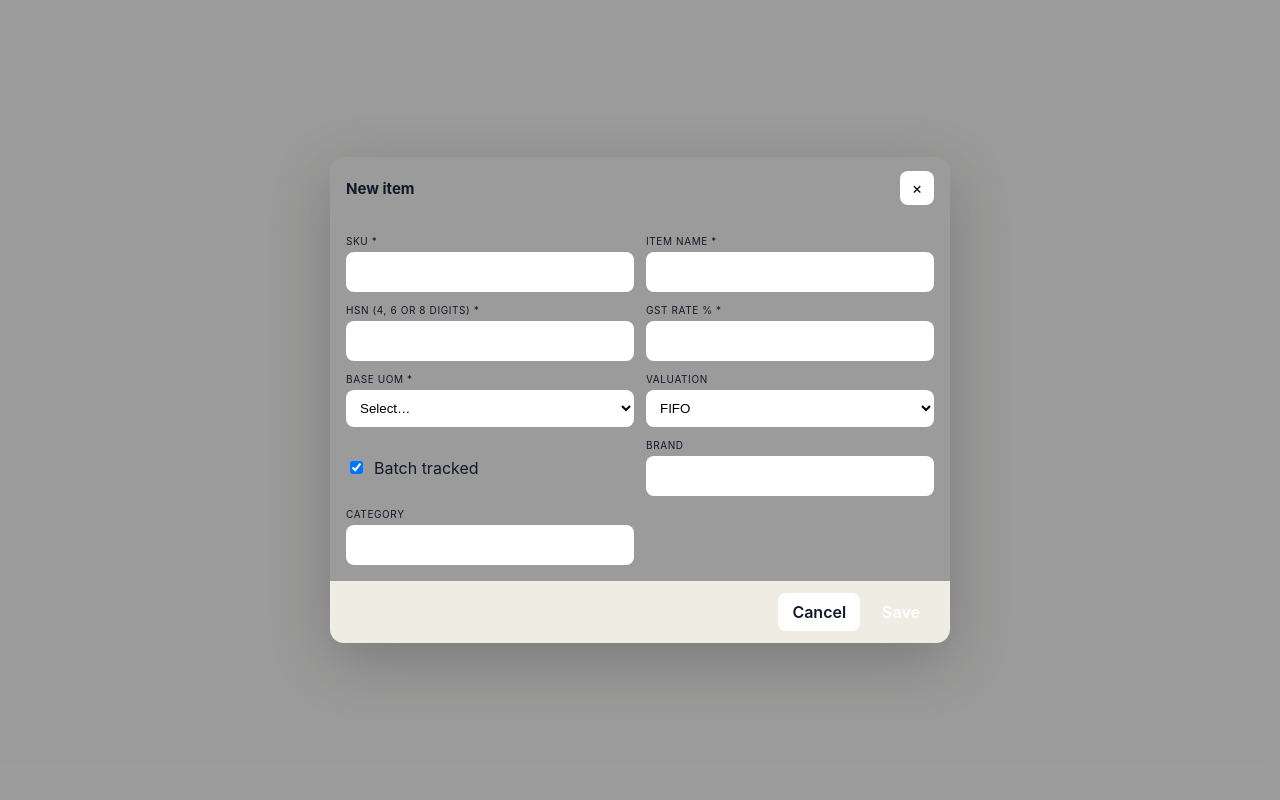
Test case: MasterFormModal › blocks submit until required fields are filled
What coordinates should you click on to do the following:
click the button "Save"
I would click on:
 (901, 612)
Its box is x1=868 y1=593 x2=934 y2=631.
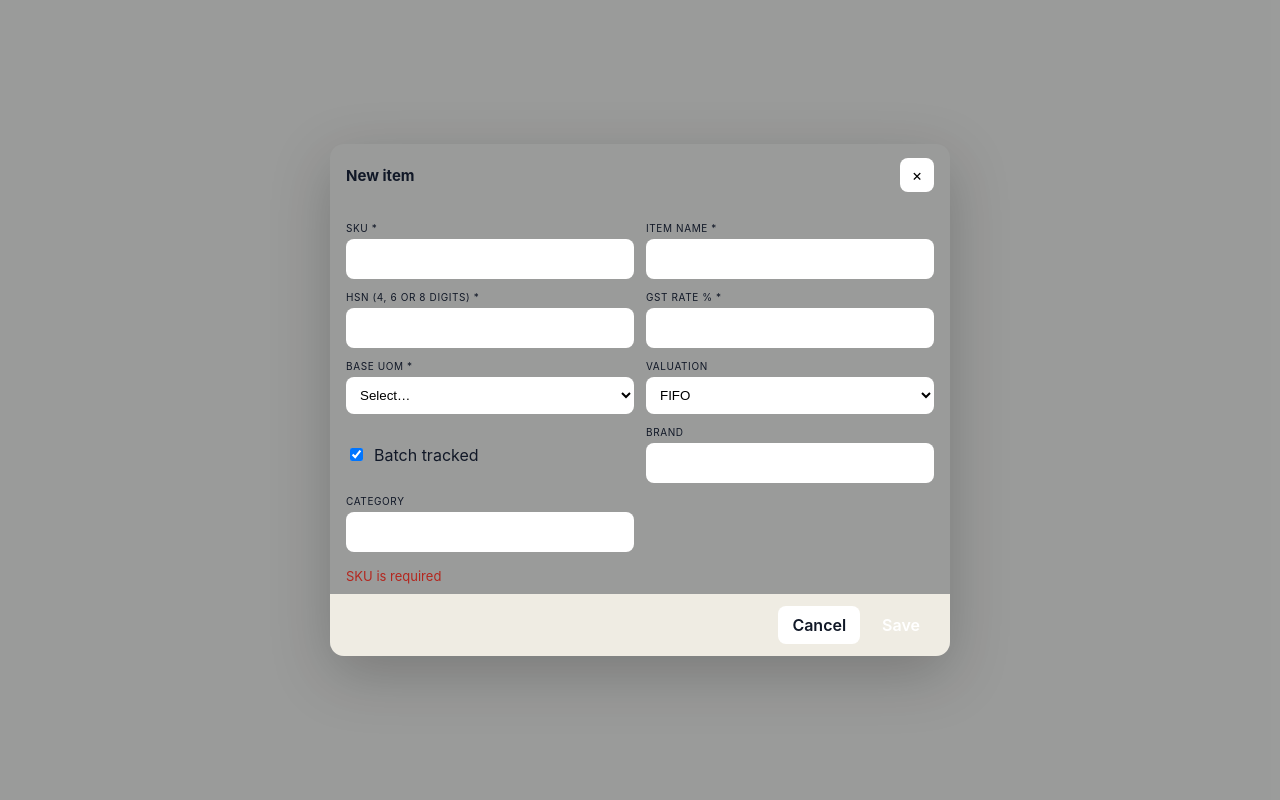
Now the message reads "SKU is required", box x1=346 y1=568 x2=441 y2=584
